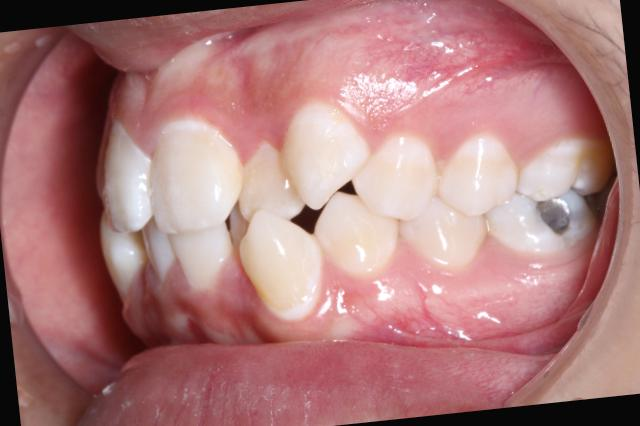canine class III 1/4: (220, 92, 406, 330)
molar class I: (477, 126, 623, 274)
